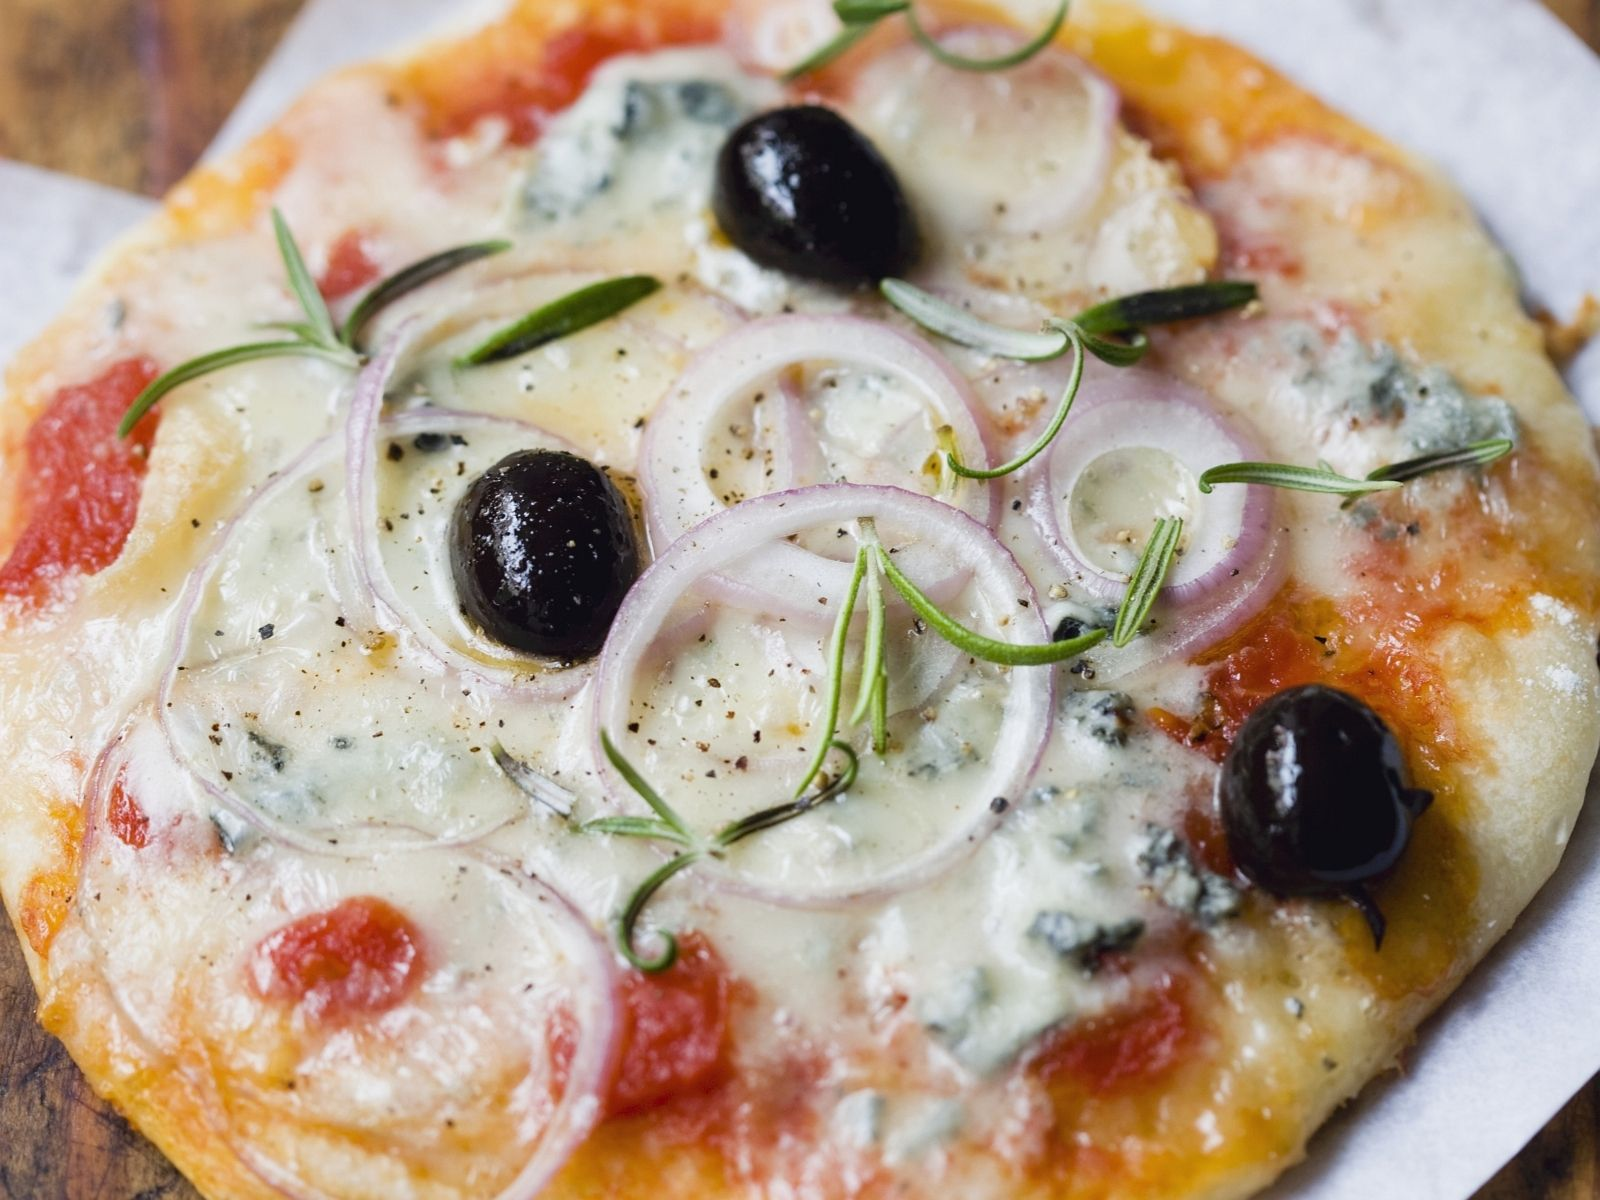Olives: (445, 447, 643, 666), (1216, 688, 1421, 889), (712, 105, 921, 291)
Pizza: (0, 0, 1600, 1200)
